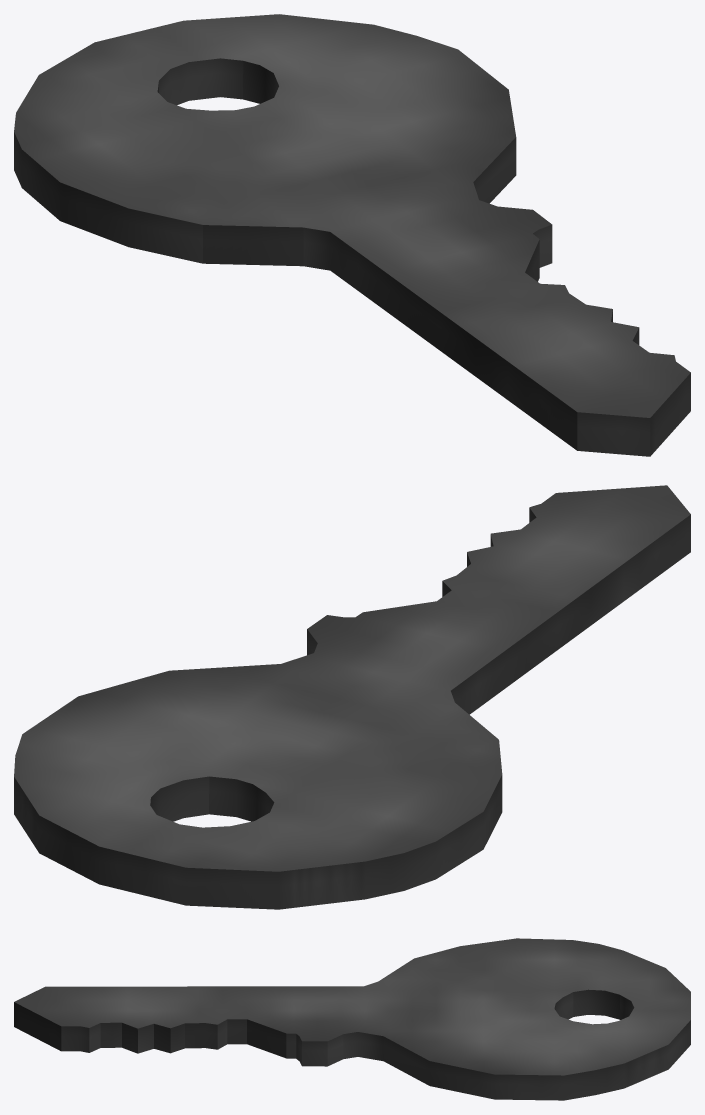
File: key_mp_1_2.obj
3 renders of one model, top to bottom at view 1: azimuth 30°, elevation 25°; view 2: azimuth 150°, elevation 25°; view 3: azimuth 270°, elevation 25°, orthographic. The views are drawn at different scales.
Visible parts, largest first — view 1: key_mp_1_2; view 2: key_mp_1_2; view 3: key_mp_1_2.
Part boxes in pixels (x1,y1,x2,y2): key_mp_1_2: (14,14,690,456); key_mp_1_2: (14,485,690,909); key_mp_1_2: (14,938,690,1100).
Bounding box in the file's own units: 0.0352 × 0.00301 × 0.0735.
